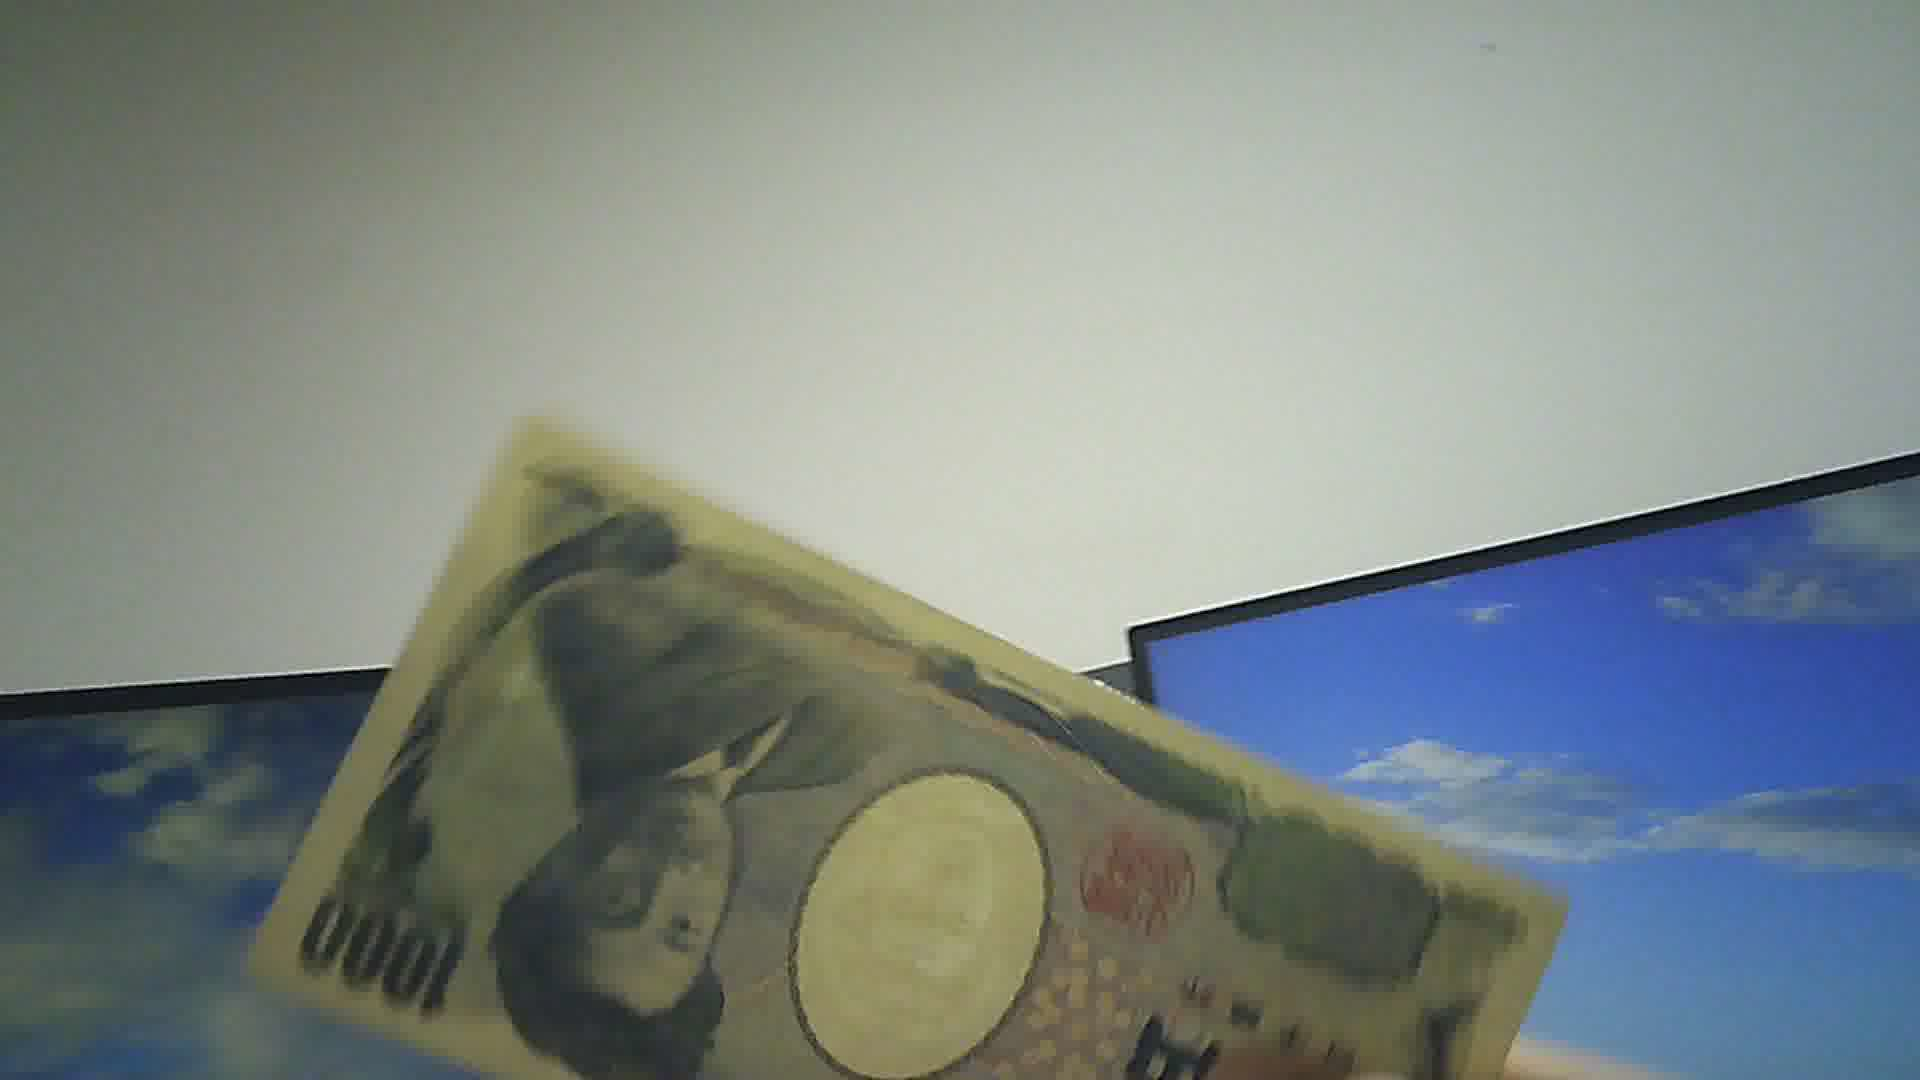1,000 Yen: (247, 396, 1547, 1076)
